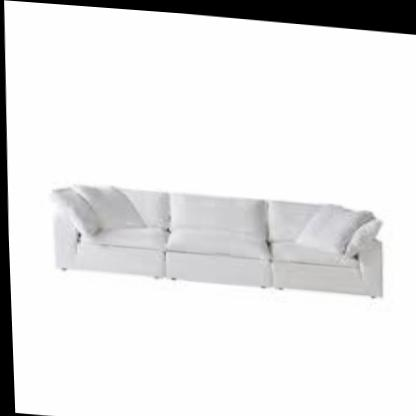Sofa: (39, 143, 400, 336)
